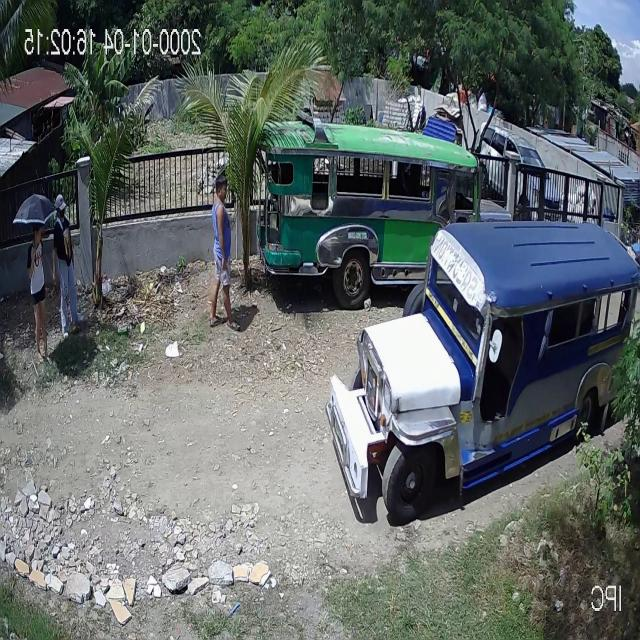walking: (204, 169, 244, 332), (52, 194, 84, 342), (26, 221, 53, 366)
